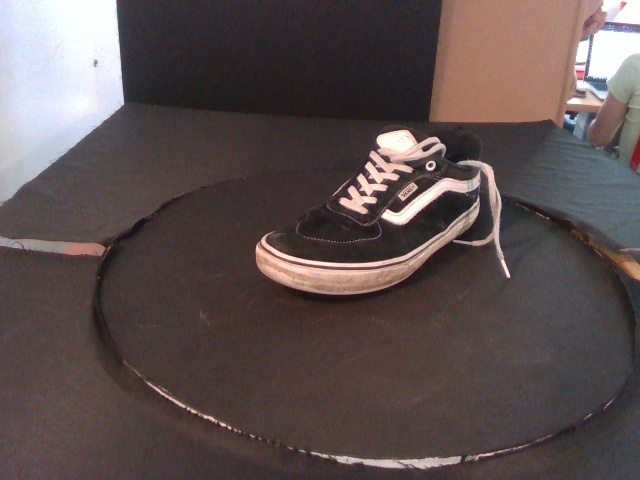shoe: (254, 123, 481, 296)
